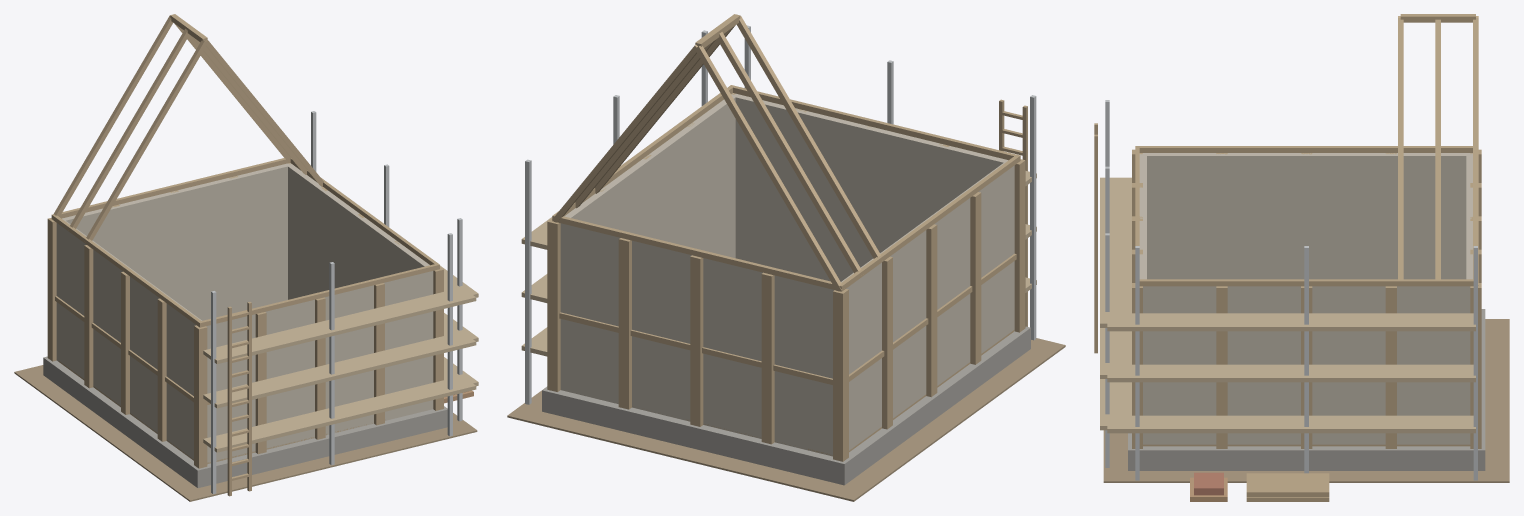
Rendered from winery_site_8.glb.
3 renders of one model, left to right at view 1: azimuth 30°, elevation 25°; view 2: azimuth 150°, elevation 25°; view 3: azimuth 270°, elevation 25°, orthographic. The views are drawn at different scales.
Parts seen in each view (by area): view 1: body; view 2: body; view 3: body.
Boxes of the visible parts, left/top/right/bottom form: body: left=14, top=14, right=478, bottom=501; body: left=507, top=14, right=1065, bottom=501; body: left=1094, top=14, right=1509, bottom=501.
Size of the model in its own units: 2.28 by 2.27 by 2.21.
